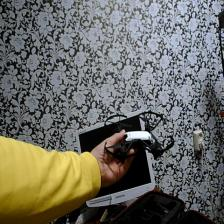drone: (102, 106, 176, 166)
